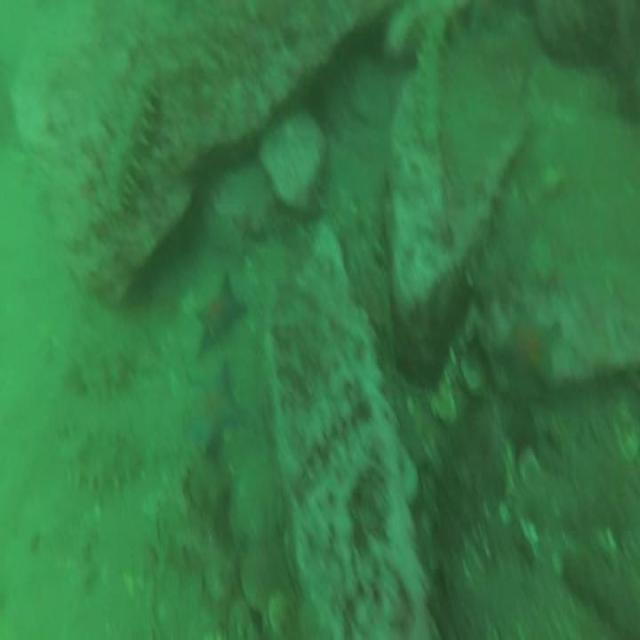holothurian: (103, 57, 163, 229), (57, 430, 146, 499), (415, 10, 447, 156), (65, 343, 139, 398)
starfish: (185, 371, 252, 460), (500, 302, 564, 393), (192, 269, 249, 362)
